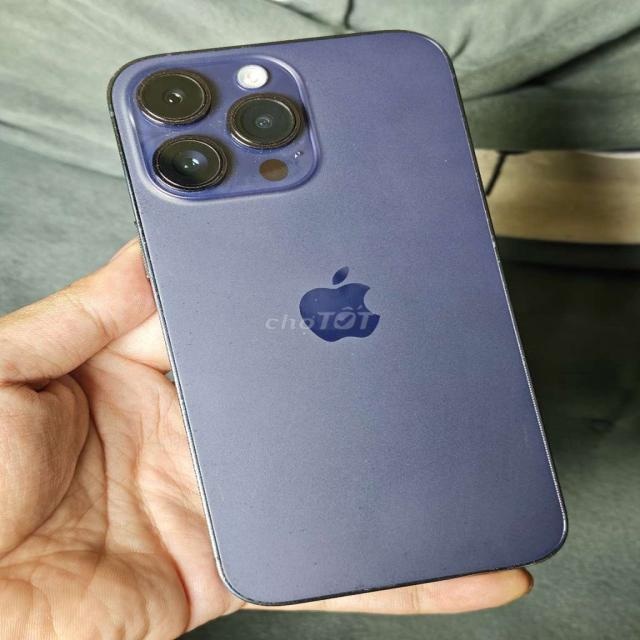scratch: (137, 120, 234, 211), (219, 90, 311, 167), (116, 64, 220, 132), (177, 359, 203, 444), (292, 288, 327, 346), (507, 415, 538, 466), (350, 578, 382, 596), (242, 594, 278, 610), (312, 560, 326, 578), (202, 216, 217, 230)
